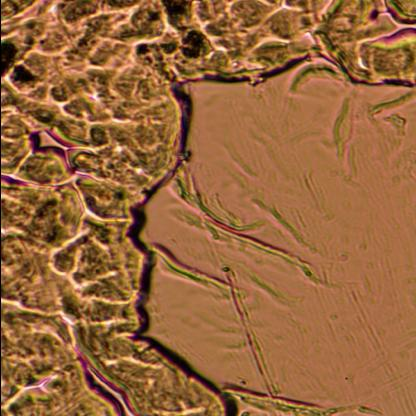Normal: (0, 0, 258, 408), (0, 0, 416, 131)
